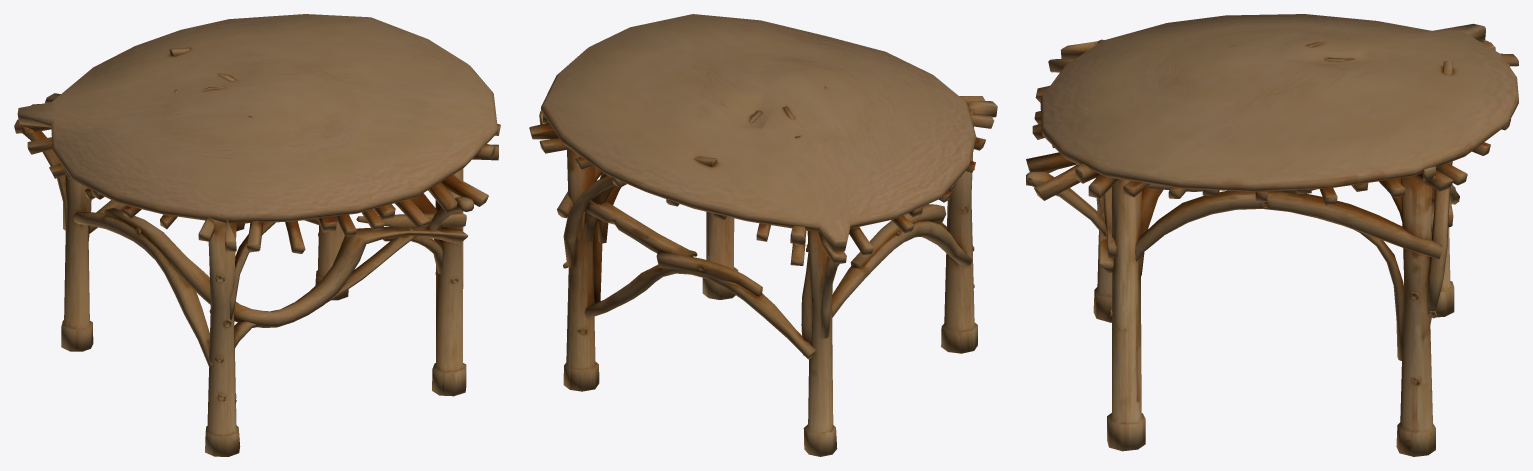
Rendered from 73eec4e6-de28-4174-bf2c-9befc566bdfa.glb.
The picture shows the model from 3 angles, left to right: view 1: azimuth 30°, elevation 25°; view 2: azimuth 150°, elevation 25°; view 3: azimuth 270°, elevation 25°; orthographic projection. The views are drawn at different scales.
Visible parts, largest first — view 1: tripo_node_73eec4e6-de28-4174-bf2c-9befc566bdfa; view 2: tripo_node_73eec4e6-de28-4174-bf2c-9befc566bdfa; view 3: tripo_node_73eec4e6-de28-4174-bf2c-9befc566bdfa.
Part boxes in pixels (x1,y1,x2,y2): tripo_node_73eec4e6-de28-4174-bf2c-9befc566bdfa: (14,14,500,456); tripo_node_73eec4e6-de28-4174-bf2c-9befc566bdfa: (529,14,997,456); tripo_node_73eec4e6-de28-4174-bf2c-9befc566bdfa: (1026,14,1518,456).
Bounding box in the file's own units: 0.998 × 0.7168 × 0.998.
1 material, 1 textured.
